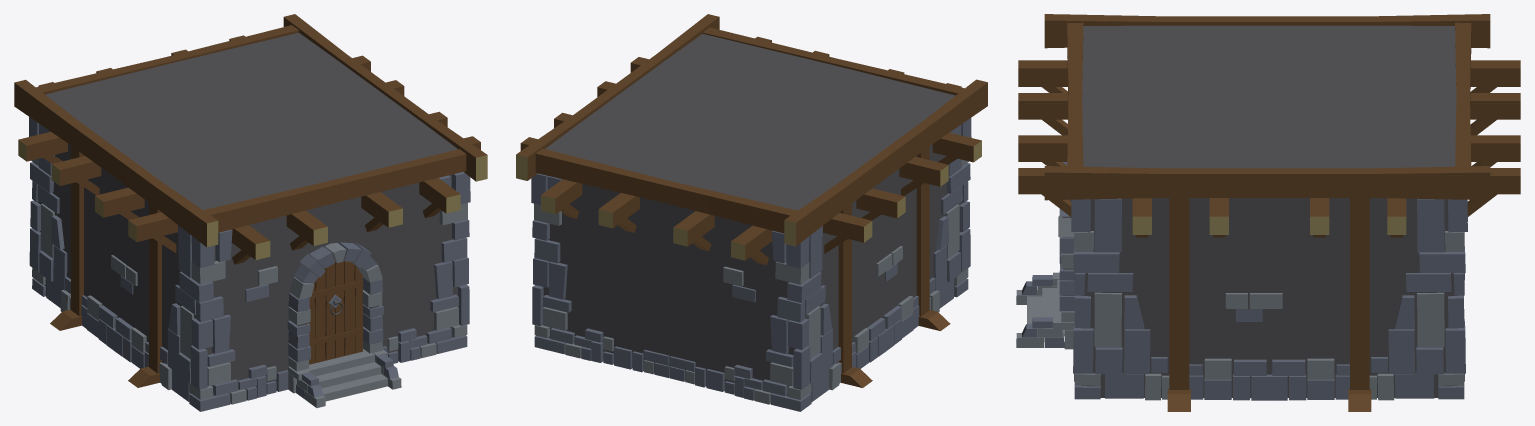
The model's file is home-cabin.glb.
3 views of the same model, side by side, from view 1: azimuth 30°, elevation 25°; view 2: azimuth 150°, elevation 25°; view 3: azimuth 270°, elevation 25° (orthographic). The views are drawn at different scales.
Parts seen in each view (by area): view 1: House_4; view 2: House_4; view 3: House_4.
Part boxes in pixels (x1,y1,x2,y2): House_4: (14, 14, 487, 411); House_4: (516, 14, 987, 411); House_4: (1016, 14, 1520, 411).
Size of the model in its own units: 1.94 by 1.07 by 2.12.
1 material, 1 textured.
